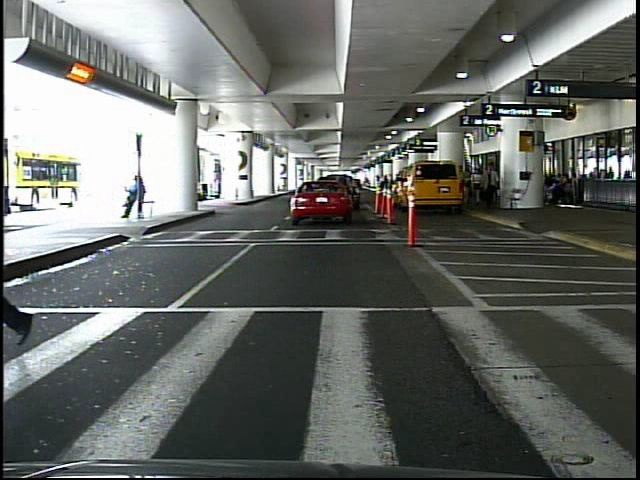person: (0, 125, 4, 349), (482, 163, 499, 209), (482, 169, 493, 207)
